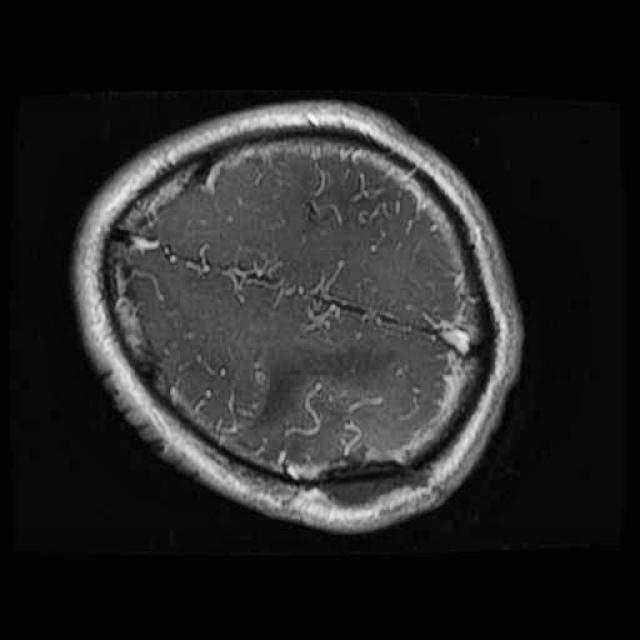Non-Tumor: (299, 435, 448, 518)
